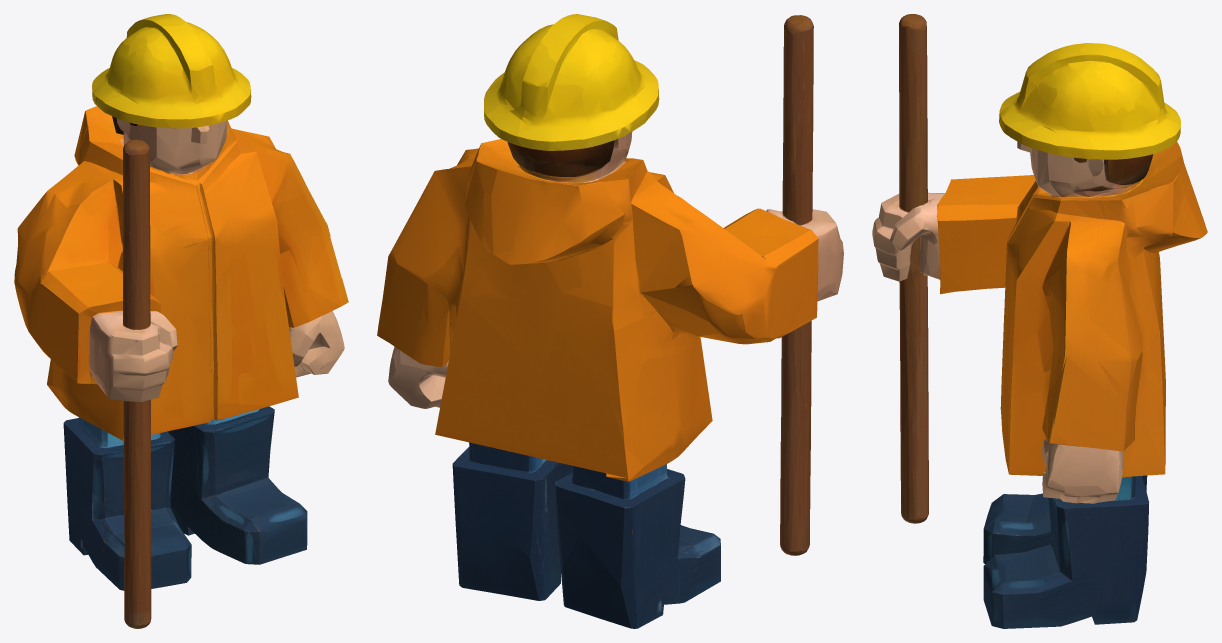
File: engineer.glb
The picture shows the model from 3 angles, left to right: view 1: azimuth 30°, elevation 25°; view 2: azimuth 150°, elevation 25°; view 3: azimuth 270°, elevation 25°; orthographic projection. The views are drawn at different scales.
Bounding box in the file's own units: 1.24 × 1.9 × 1.08.
1 material, 1 textured.
